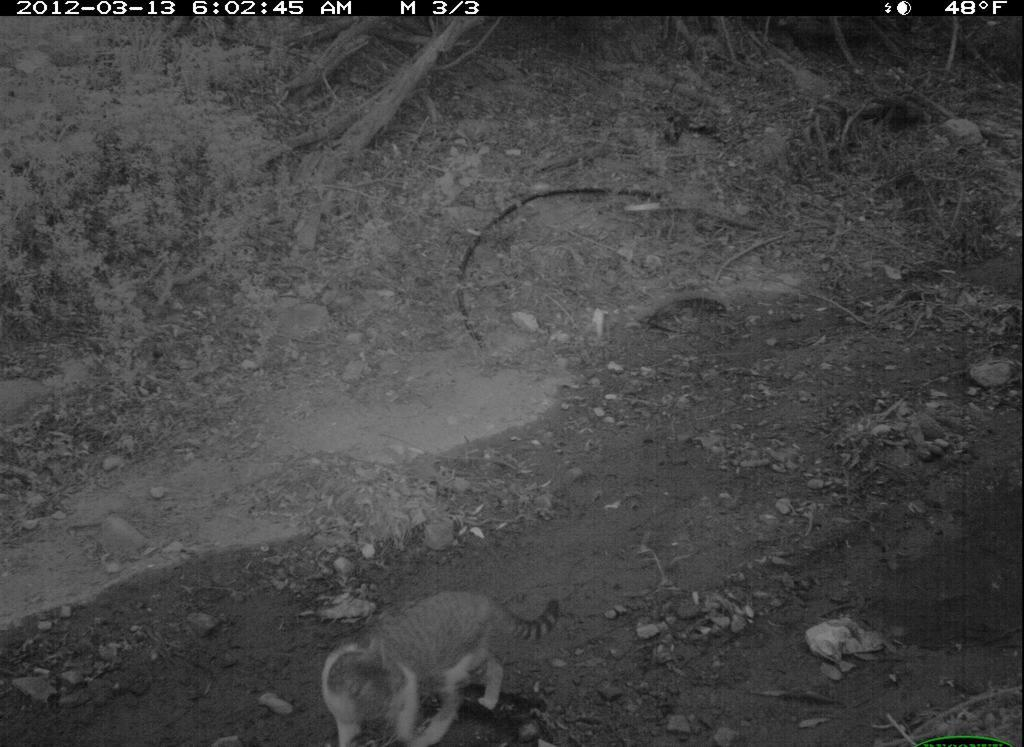cat: (314, 585, 573, 747)
